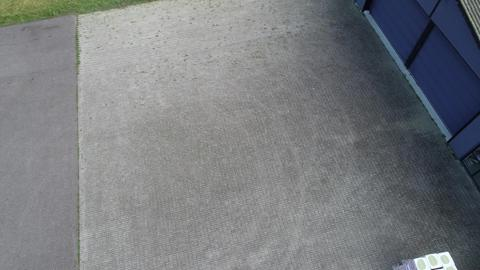RockwoolPallet: (392, 249, 461, 270)
